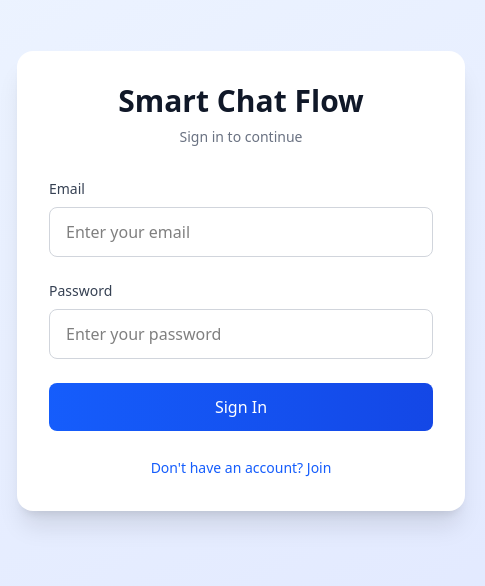
Test: Auth Component › Login Mode › shows error for non-existent user
The image size is (485, 586).
Type "nobody@example.com" into the field labelled "Email" at (241, 232), box x1=49 y1=207 x2=433 y2=257
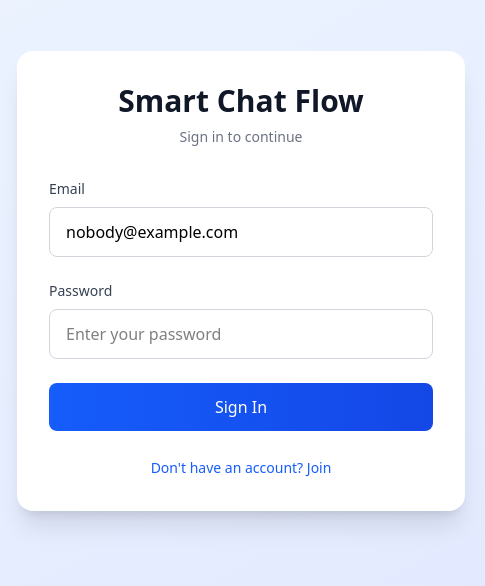
Type "password123" into the password field labelled "Password" at (241, 334), box x1=49 y1=309 x2=433 y2=359
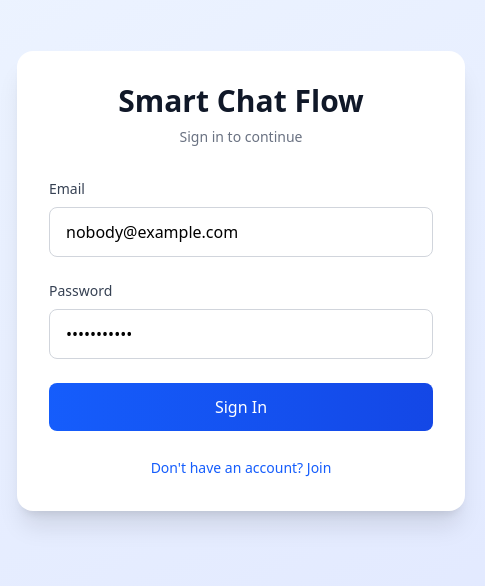
Click the button "Sign In" at (241, 407), box x1=49 y1=383 x2=433 y2=431
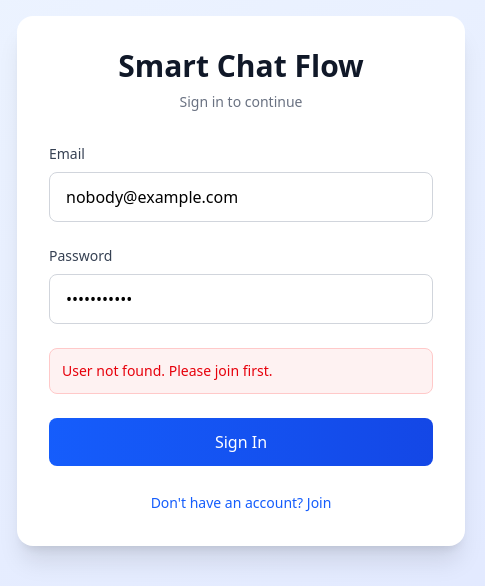
Check: the text "User not found. Please join first." is shown, box x1=62 y1=361 x2=272 y2=380
